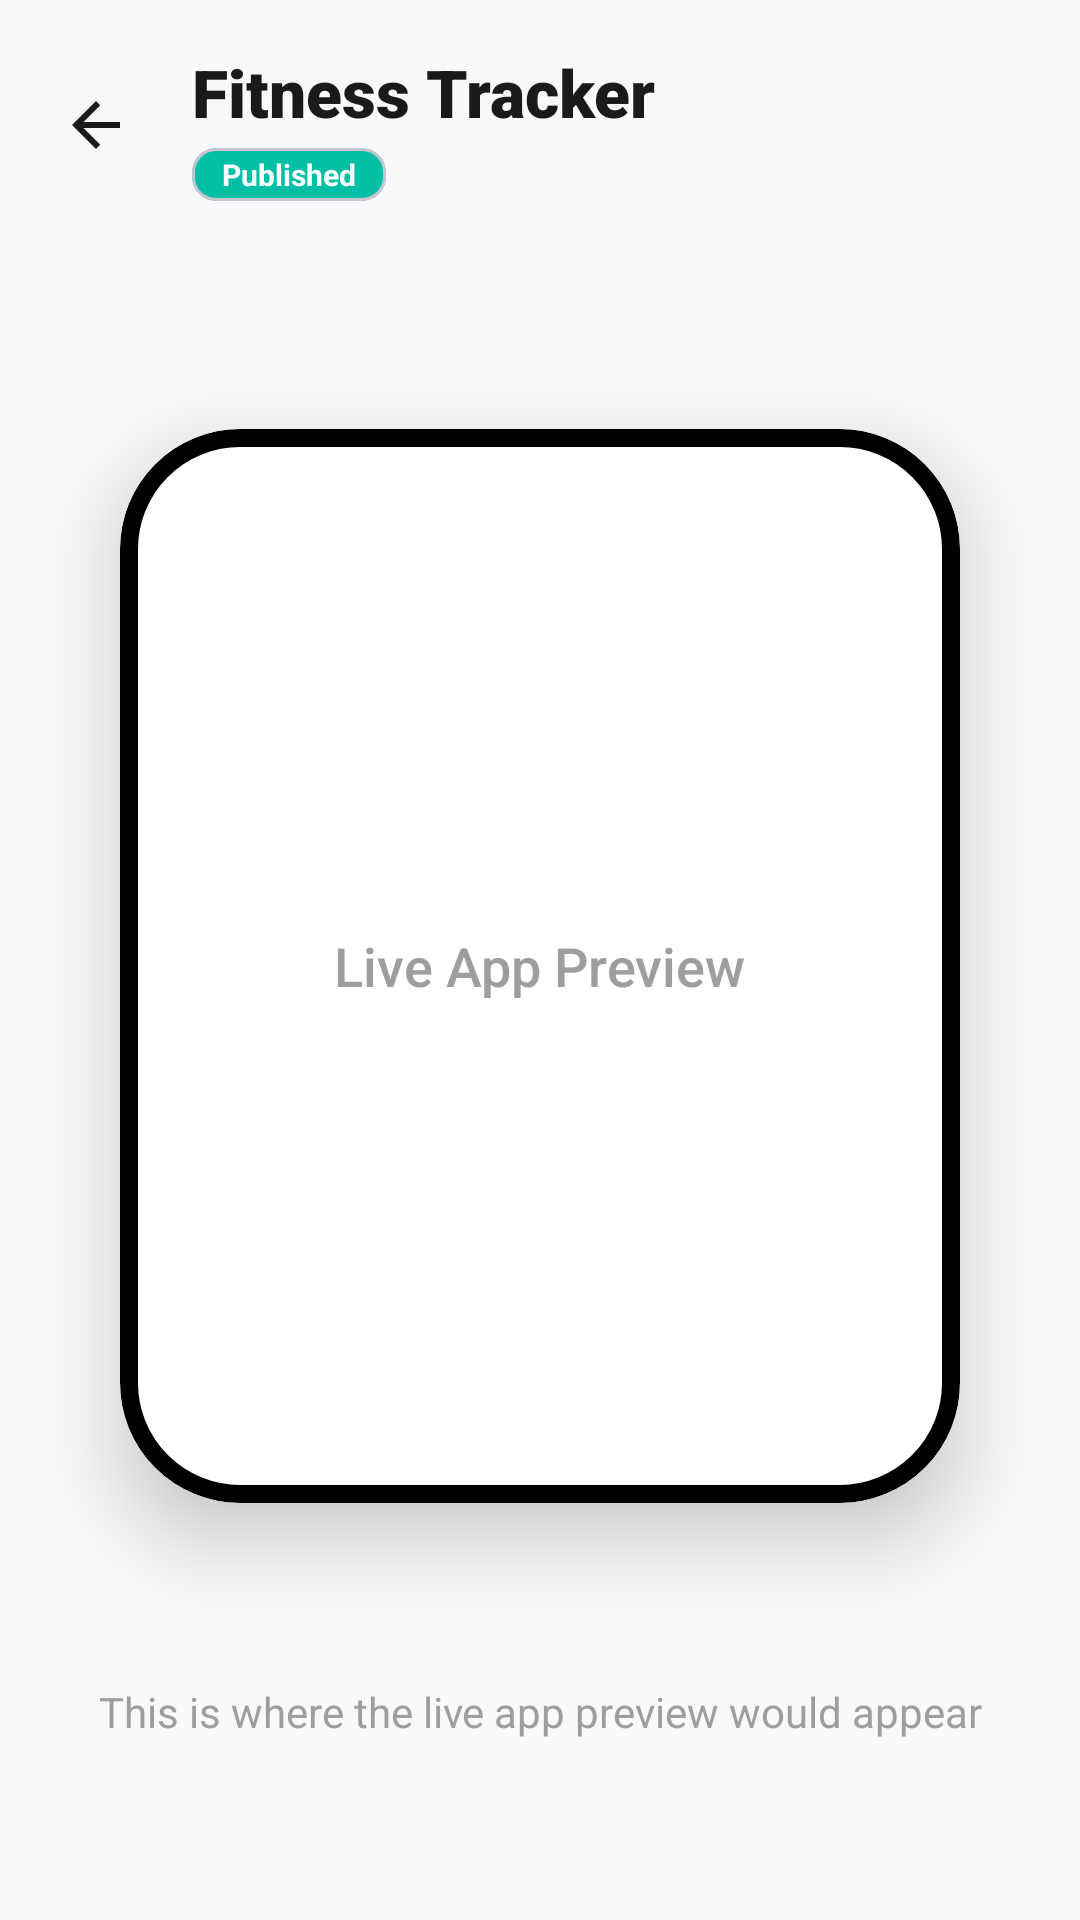

Where icons sit on this 1080*1920 app screen, as box=[x1, y1, x2, y2]:
back: box=[72, 101, 120, 149]
